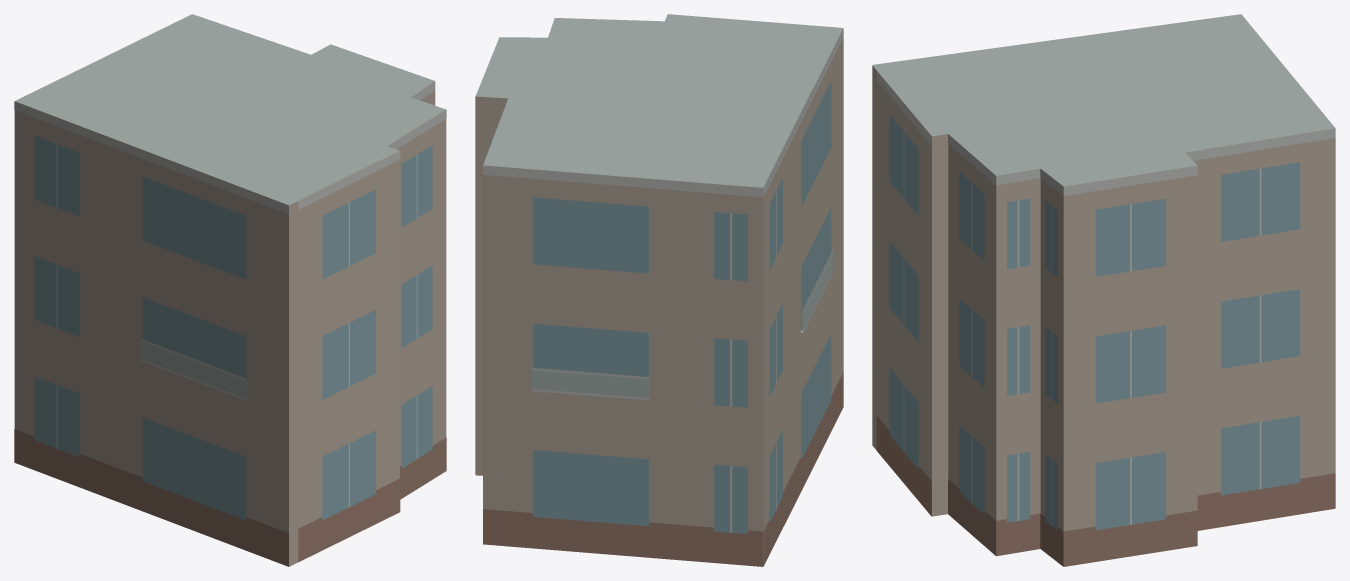
File: survey-upis-32491515.glb
3 renders of one model, left to right at view 1: azimuth 30°, elevation 25°; view 2: azimuth 150°, elevation 25°; view 3: azimuth 270°, elevation 25°, orthographic. The views are drawn at different scales.
Visible parts, largest first — view 1: survey-upis-32491515.tmp; view 2: survey-upis-32491515.tmp; view 3: survey-upis-32491515.tmp.
Part boxes in pixels (x1=…): survey-upis-32491515.tmp: x1=14, y1=14, x2=446, y2=566; survey-upis-32491515.tmp: x1=475, y1=14, x2=843, y2=566; survey-upis-32491515.tmp: x1=872, y1=14, x2=1335, y2=566.
Size of the model in its own units: 9.55 by 9.8 by 10.83.
